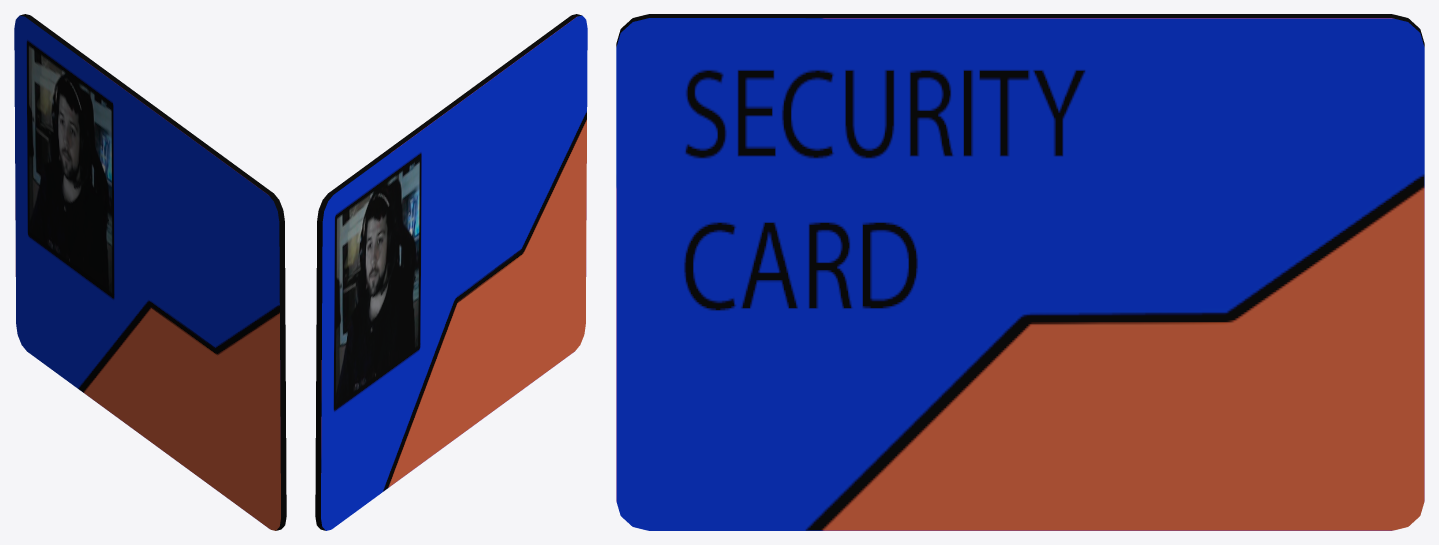
The model's file is card_Lucas.obj.
The picture shows the model from 3 angles, left to right: view 1: azimuth 30°, elevation 25°; view 2: azimuth 150°, elevation 25°; view 3: azimuth 270°, elevation 25°; orthographic projection. The views are drawn at different scales.
Visible parts, largest first — view 1: Cube; view 2: Cube; view 3: Cube.
Boxes of the visible parts, box(x1,y1,x2,y2) form: Cube: box(14, 14, 286, 530); Cube: box(315, 14, 587, 530); Cube: box(616, 14, 1424, 530).
Size of the model in its own units: 0.0422 by 1.8 by 2.58.
Materials: 2 (1 with a texture image).
